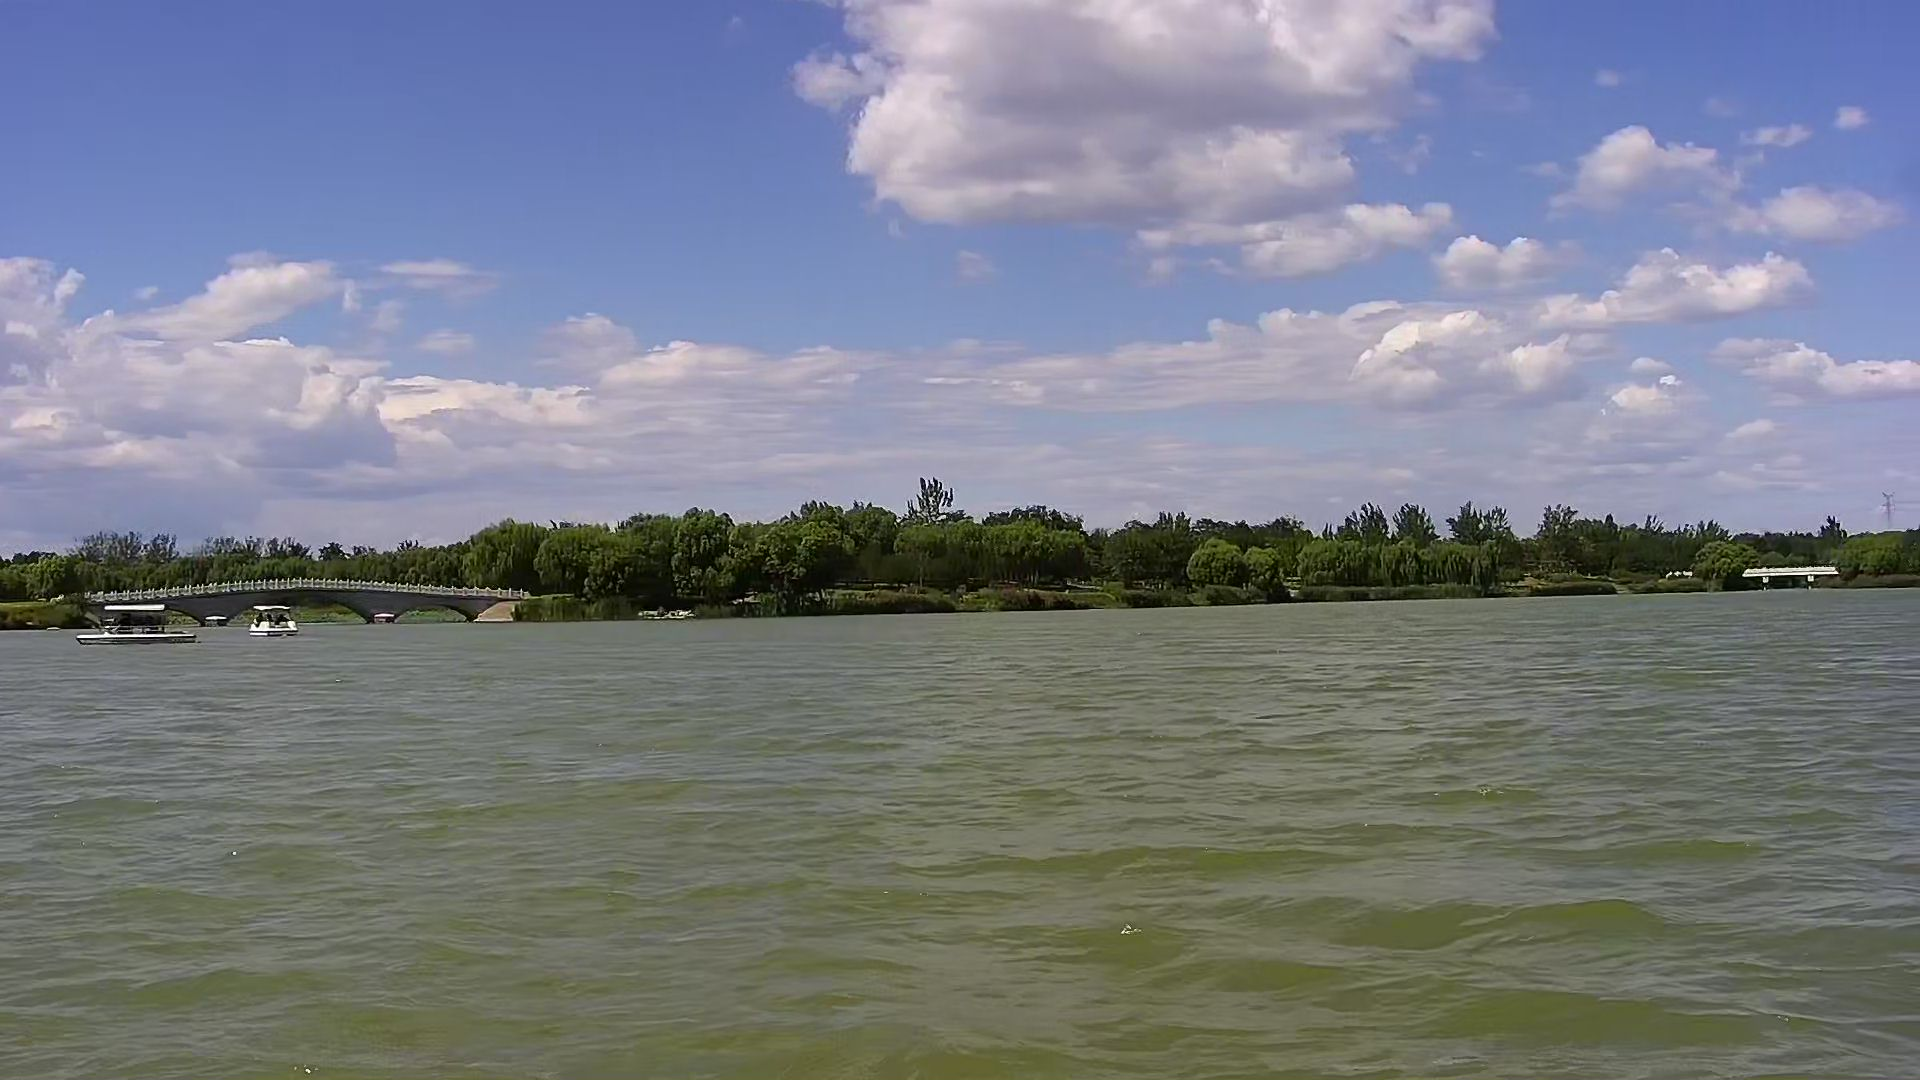boat: (75, 600, 207, 654), (247, 603, 307, 636)
bridge: (88, 572, 535, 628)
